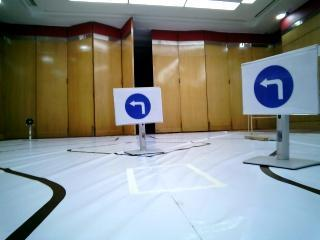left: (244, 62, 303, 112), (119, 91, 158, 122)
